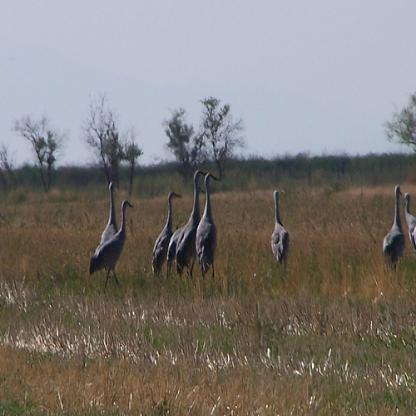bird: (89, 199, 136, 289), (178, 169, 209, 278), (196, 171, 222, 278), (151, 192, 184, 275), (381, 184, 406, 269), (270, 187, 290, 266), (101, 178, 119, 248), (166, 223, 188, 274), (404, 190, 415, 253)
